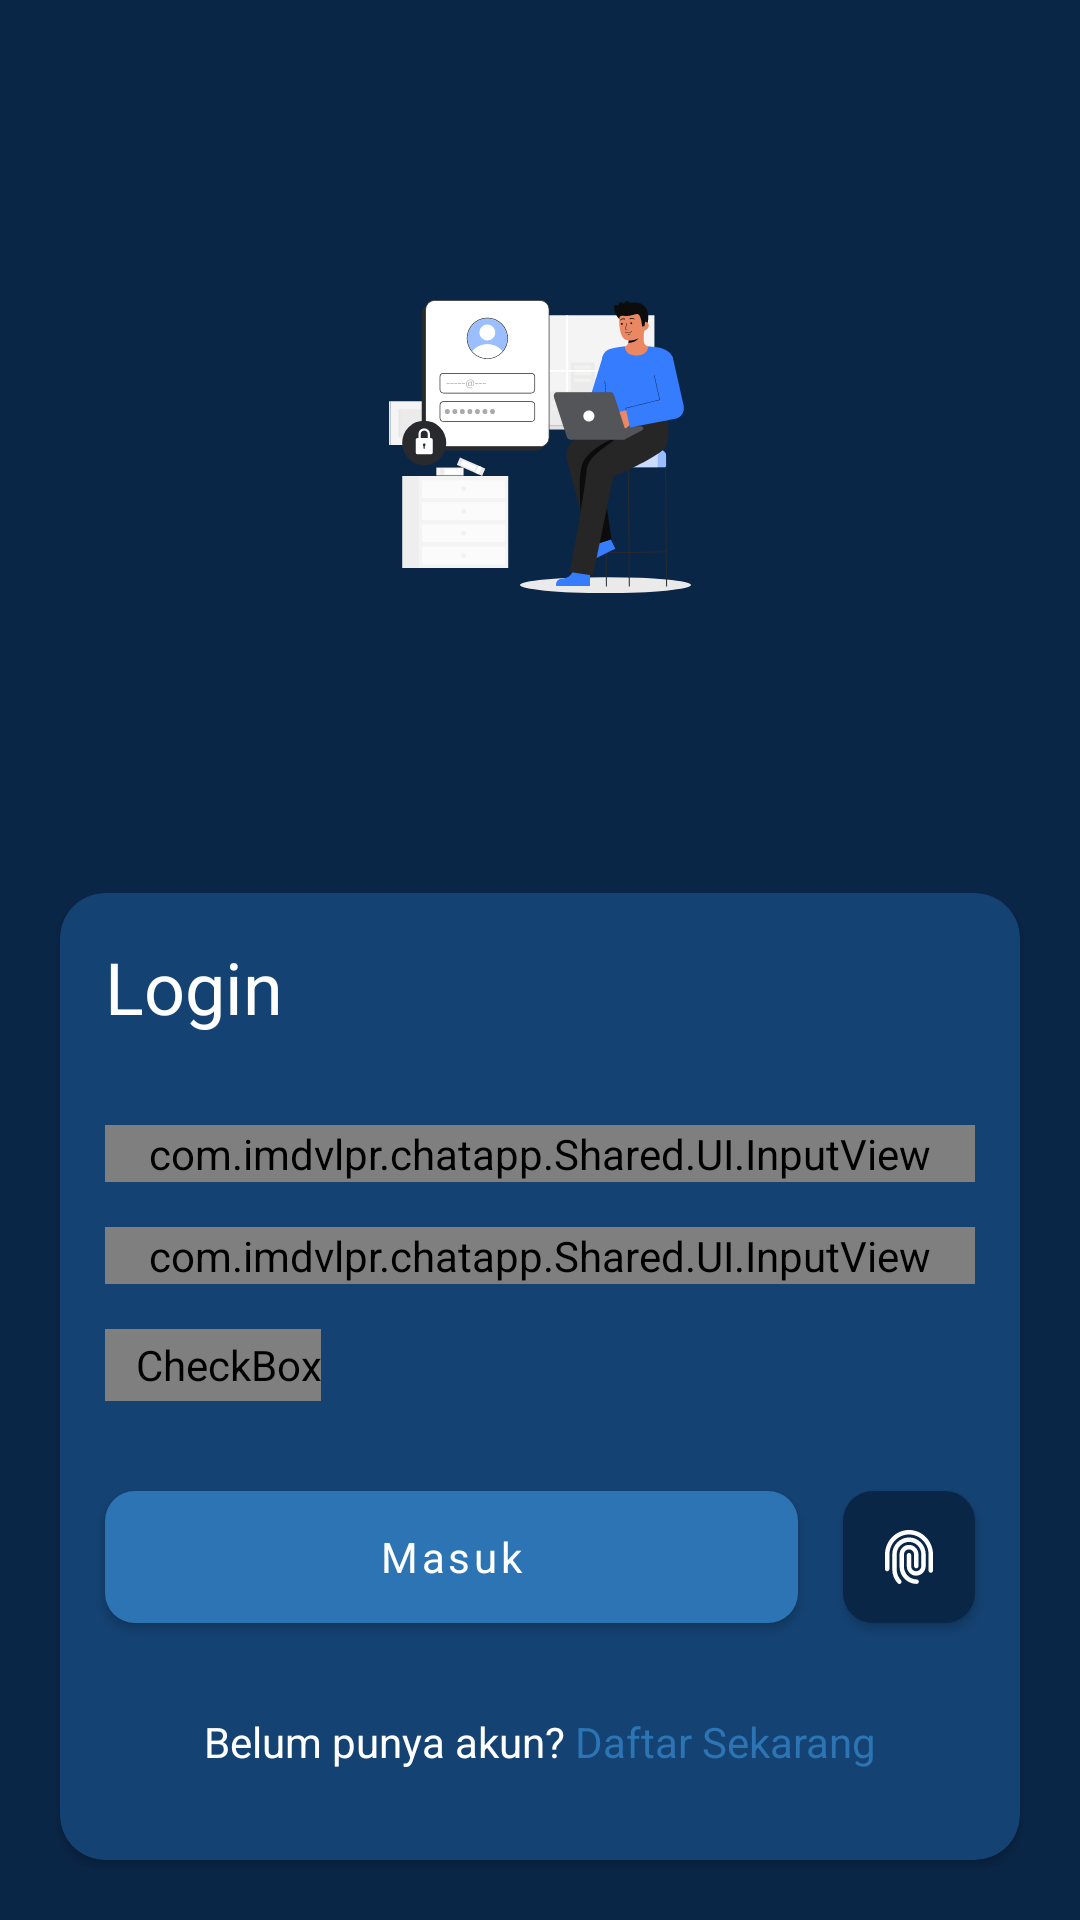

Screen size 1080×1920. Icon name, then its center in pixels as [x,y]:
fingerprint: [909,1557]
illustration login: [540,446]
